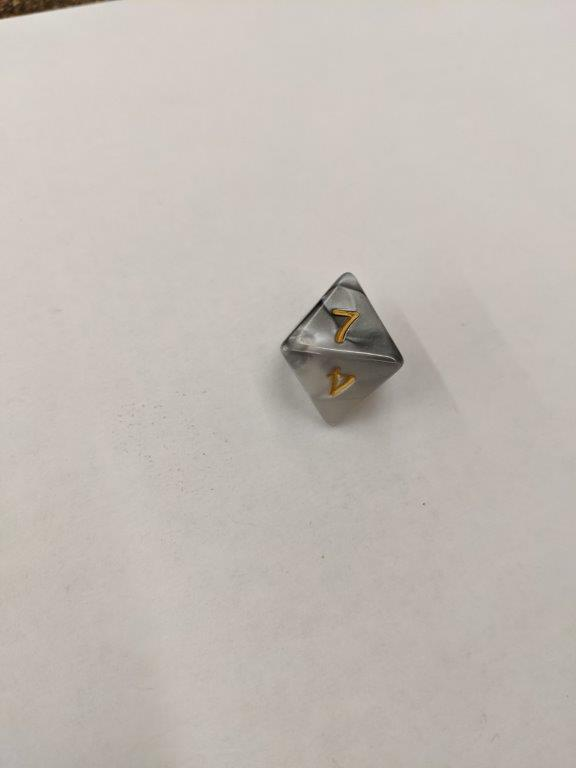d8-7: (283, 269, 406, 428)
